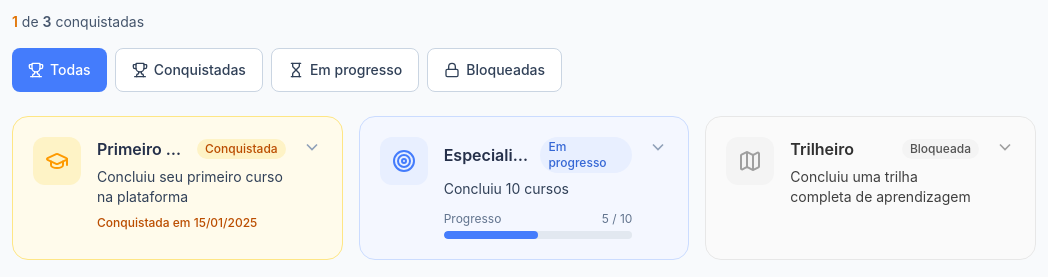
Test case: Conquistas demonstrativas › mostra os três cartões em Todas e um por filtro na interface
Expected: the heading "Primeiro Passo" is shown, [97,137,189,161]
Expected: the heading "Especialista" is shown, [444,143,532,167]
Click the tab "Em progresso": (345, 70) [271,48,419,92]
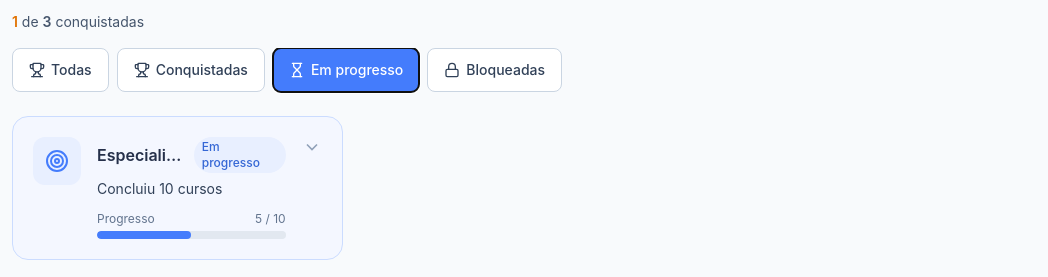
Expected: the heading "Especialista" is shown, [97,143,186,167]
Expected: the button "Primeiro Passo" is gone
Expected: the button "Trilheiro" is gone
Click the tab "Bloqueadas": (495, 70) [427,48,562,92]
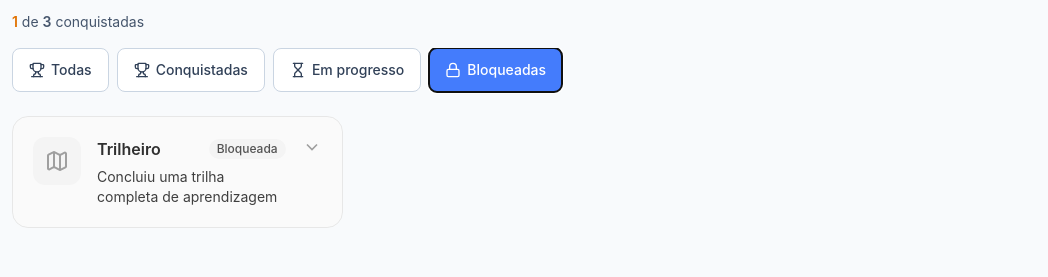
Expected: the heading "Trilheiro" is shown, [97,137,161,161]
Expected: the button "Especialista" is gone
Click the tab "Conquistadas": (191, 70) [117,48,265,92]
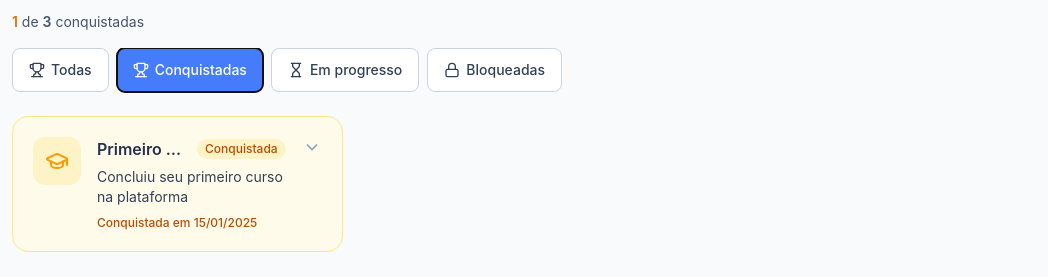
Expected: the heading "Primeiro Passo" is shown, [97,137,189,161]
Expected: the button "Trilheiro" is gone
